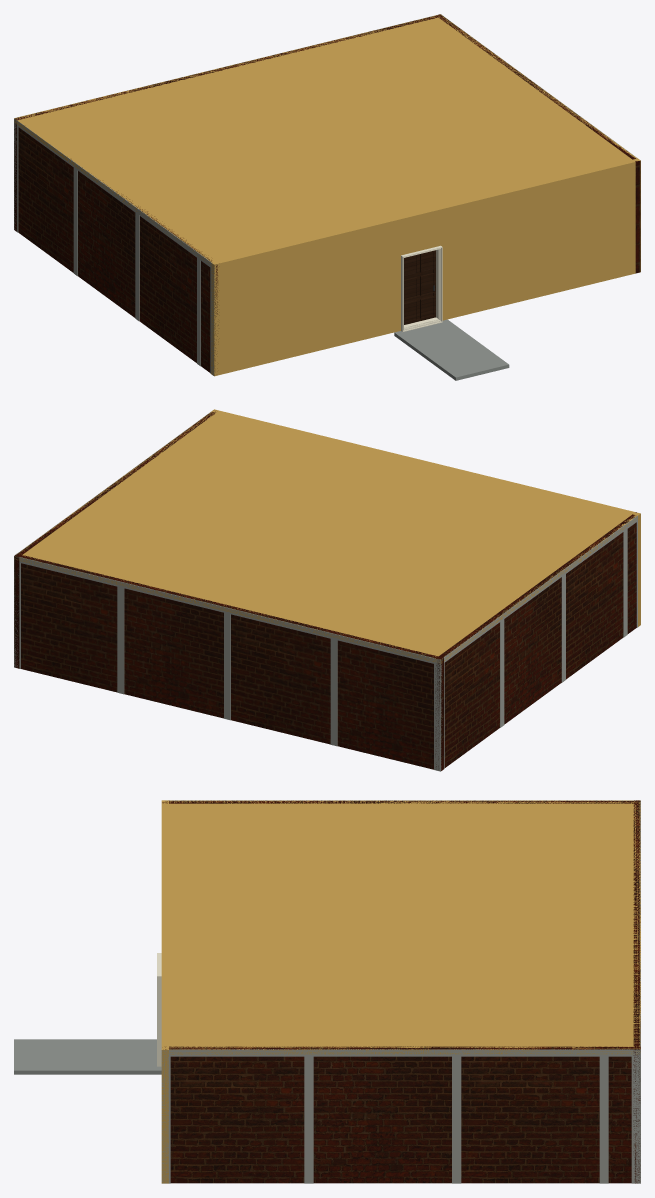
The model's file is building.glb.
3 renders of one model, top to bottom at view 1: azimuth 30°, elevation 25°; view 2: azimuth 150°, elevation 25°; view 3: azimuth 270°, elevation 25°, orthographic. The views are drawn at different scales.
Parts seen in each view (by area): view 1: roof/house:0/roof_slab#0001, house:0/edge0/z0/house:0/edge0/z0/wall_0_0, house:0/edge3/z0/house:0/edge3/z0/wall_0_0, entrance/camino_acceso/entrance_passage#0001, house:0/edge1/z0/house:0/edge1/z0/wall_0_0, house:0/edge2/z0/house:0/edge2/z0/wall_0_0, house:0/edge3/z0/house:0/edge3/z0/beam_0_0, house:0/edge3/z0/house:0/edge3/z0/column_2_0, house:0/edge3/z0/house:0/edge3/z0/column_3_0; view 2: roof/house:0/roof_slab#0001, house:0/edge2/z0/house:0/edge2/z0/wall_0_0, house:0/edge3/z0/house:0/edge3/z0/wall_0_0, house:0/edge2/z0/house:0/edge2/z0/beam_0_0, house:0/edge0/z0/house:0/edge0/z0/wall_0_0, house:0/edge1/z0/house:0/edge1/z0/wall_0_0, house:0/edge3/z0/house:0/edge3/z0/beam_0_0, house:0/edge2/z0/house:0/edge2/z0/column_2_0, house:0/edge2/z0/house:0/edge2/z0/column_4_0, house:0/edge2/z0/house:0/edge2/z0/column_1_0, house:0/edge2/z0/house:0/edge2/z0/column_3_0, house:0/edge3/z0/house:0/edge3/z0/column_2_0 (+2 smaller); view 3: roof/house:0/roof_slab#0001, house:0/edge1/z0/house:0/edge1/z0/wall_0_0, entrance/camino_acceso/entrance_passage#0001, house:0/edge1/z0/house:0/edge1/z0/beam_0_0, house:0/edge0/z0/house:0/edge0/z0/wall_0_0, house:0/edge2/z0/house:0/edge2/z0/wall_0_0, house:0/edge3/z0/house:0/edge3/z0/wall_0_0, house:0/edge1/z0/house:0/edge1/z0/column_2_0, house:0/edge1/z0/house:0/edge1/z0/column_1_0, house:0/edge1/z0/house:0/edge1/z0/column_3_0, house:0/edge1/z0/house:0/edge1/z0/column_4_0, house:0/edge1/z0/house:0/edge1/z0/column_0_0.
Part boxes in pixels (bbox=[...]): roof/house:0/roof_slab#0001: bbox=[14, 14, 640, 267]; house:0/edge0/z0/house:0/edge0/z0/wall_0_0: bbox=[211, 158, 640, 376]; house:0/edge3/z0/house:0/edge3/z0/wall_0_0: bbox=[18, 127, 218, 375]; entrance/camino_acceso/entrance_passage#0001: bbox=[394, 319, 509, 380]; house:0/edge1/z0/house:0/edge1/z0/wall_0_0: bbox=[436, 14, 640, 273]; house:0/edge2/z0/house:0/edge2/z0/wall_0_0: bbox=[14, 14, 442, 231]; house:0/edge3/z0/house:0/edge3/z0/beam_0_0: bbox=[14, 118, 214, 269]; house:0/edge3/z0/house:0/edge3/z0/column_2_0: bbox=[73, 168, 77, 276]; house:0/edge3/z0/house:0/edge3/z0/column_3_0: bbox=[135, 213, 139, 321]; roof/house:0/roof_slab#0001: bbox=[14, 410, 636, 663]; house:0/edge2/z0/house:0/edge2/z0/wall_0_0: bbox=[14, 554, 443, 770]; house:0/edge3/z0/house:0/edge3/z0/wall_0_0: bbox=[435, 512, 636, 767]; house:0/edge2/z0/house:0/edge2/z0/beam_0_0: bbox=[14, 557, 440, 665]; house:0/edge0/z0/house:0/edge0/z0/wall_0_0: bbox=[211, 409, 640, 626]; house:0/edge1/z0/house:0/edge1/z0/wall_0_0: bbox=[14, 411, 215, 668]; house:0/edge3/z0/house:0/edge3/z0/beam_0_0: bbox=[440, 515, 637, 663]; house:0/edge2/z0/house:0/edge2/z0/column_2_0: bbox=[117, 586, 124, 694]; house:0/edge2/z0/house:0/edge2/z0/column_4_0: bbox=[330, 639, 337, 746]; house:0/edge2/z0/house:0/edge2/z0/column_1_0: bbox=[434, 664, 440, 771]; house:0/edge2/z0/house:0/edge2/z0/column_3_0: bbox=[224, 612, 230, 720]; house:0/edge3/z0/house:0/edge3/z0/column_2_0: bbox=[500, 619, 504, 727]; roof/house:0/roof_slab#0001: bbox=[161, 800, 640, 1054]; house:0/edge1/z0/house:0/edge1/z0/wall_0_0: bbox=[165, 1046, 640, 1183]; entrance/camino_acceso/entrance_passage#0001: bbox=[14, 1039, 161, 1074]; house:0/edge1/z0/house:0/edge1/z0/beam_0_0: bbox=[161, 1049, 640, 1056]; house:0/edge0/z0/house:0/edge0/z0/wall_0_0: bbox=[161, 800, 168, 1183]; house:0/edge2/z0/house:0/edge2/z0/wall_0_0: bbox=[633, 800, 640, 1183]; house:0/edge3/z0/house:0/edge3/z0/wall_0_0: bbox=[162, 800, 640, 803]; house:0/edge1/z0/house:0/edge1/z0/column_2_0: bbox=[304, 1056, 313, 1183]; house:0/edge1/z0/house:0/edge1/z0/column_1_0: bbox=[631, 1056, 640, 1183]; house:0/edge1/z0/house:0/edge1/z0/column_3_0: bbox=[452, 1056, 461, 1183]; house:0/edge1/z0/house:0/edge1/z0/column_4_0: bbox=[599, 1056, 608, 1183]; house:0/edge1/z0/house:0/edge1/z0/column_0_0: bbox=[161, 1056, 170, 1183].
Size of the model in its own units: 16 by 4.12 by 17.
Materials: 7 (2 with a texture image).
